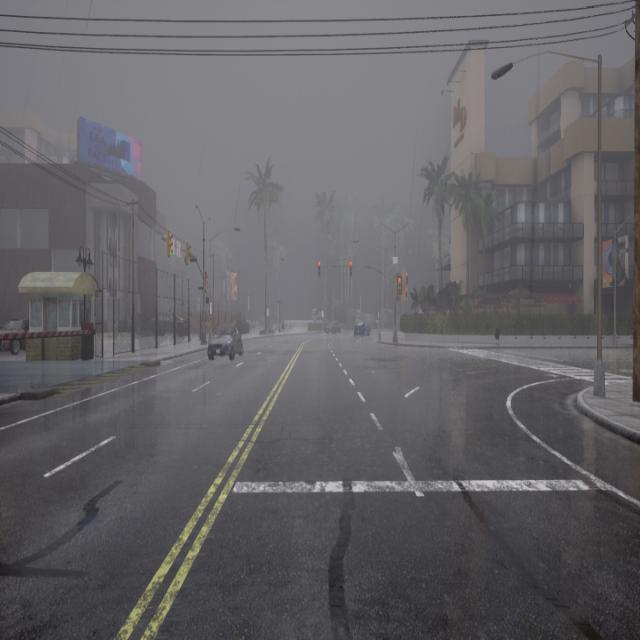6: (397, 275, 402, 283), (349, 260, 352, 267), (317, 261, 321, 266)
9: (397, 272, 402, 298), (316, 258, 322, 278), (169, 232, 173, 256), (188, 243, 192, 265), (349, 258, 353, 278), (205, 272, 208, 292)
bien_hieu_lenh: (169, 252, 172, 256), (205, 287, 208, 291), (188, 260, 190, 264)
